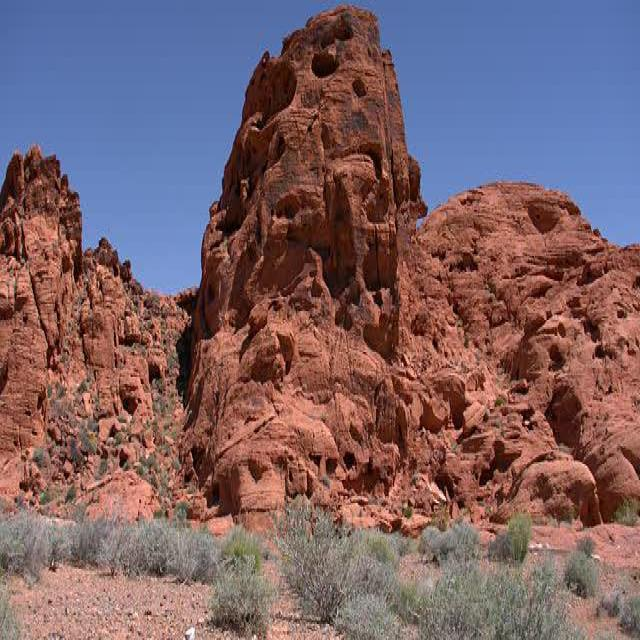other: (236, 280, 473, 507)
